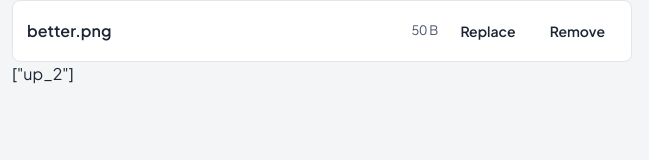
Scenario: file upload › uploads, shows the file, replaces and removes it; the answer is the upload ids
Earlier steps of the test are not shown.
Expected: the text "better.png" is shown, top-left (27, 20), bottom-right (111, 41)
What coordinates should you click on to do the following:
click the button with aria-label "Remove better.png"
I would click on:
 (577, 31)
Its box is top-left (538, 11), bottom-right (617, 51).
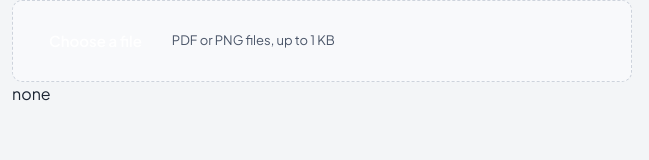
Result: the text with test id "value" reads "none" at top-left (12, 83), bottom-right (51, 104)
